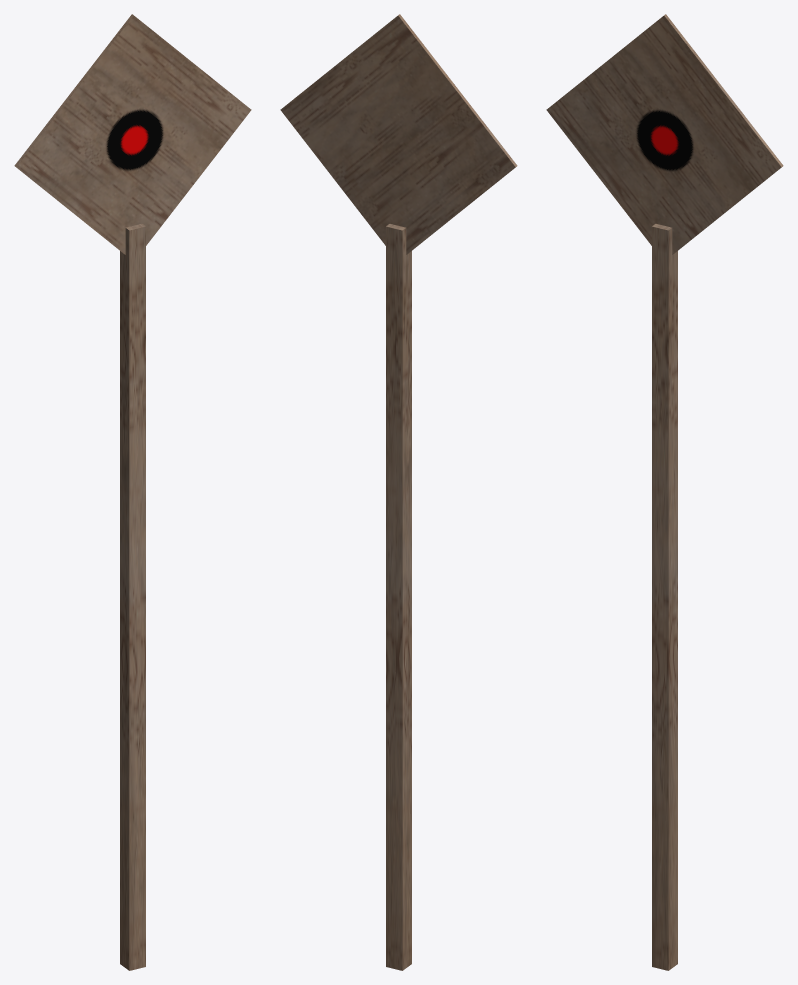
The model's file is mato.fbx.
3 views of the same model, side by side, from view 1: azimuth 30°, elevation 25°; view 2: azimuth 150°, elevation 25°; view 3: azimuth 330°, elevation 25° (orthographic).
Parts seen in each view (by area): view 1: mato, bou; view 2: mato, bou; view 3: mato, bou.
Part boxes in pixels (x1,y1,x2,y2): mato: (14,14,251,254); bou: (120,224,145,970); mato: (280,14,517,254); bou: (386,224,411,970); mato: (546,14,783,254); bou: (652,224,677,970).
Size of the model in its own units: 56.57 by 218 by 4.
Materials: 1 (1 with a texture image).
